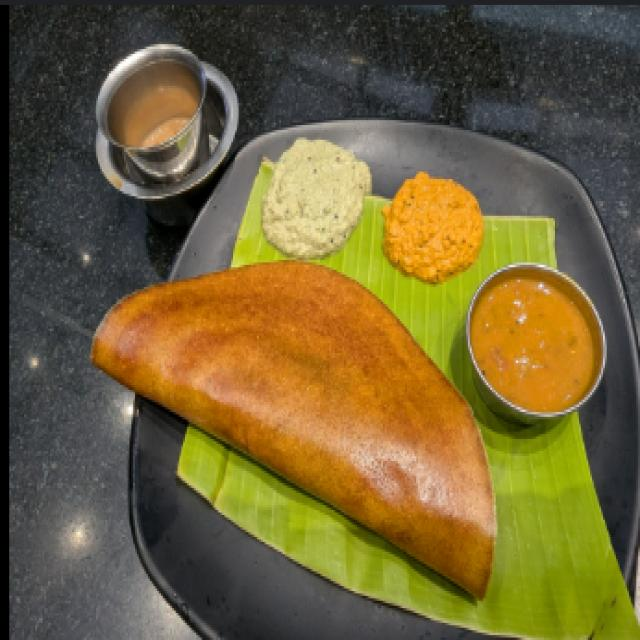dosa: (95, 263, 489, 580)
